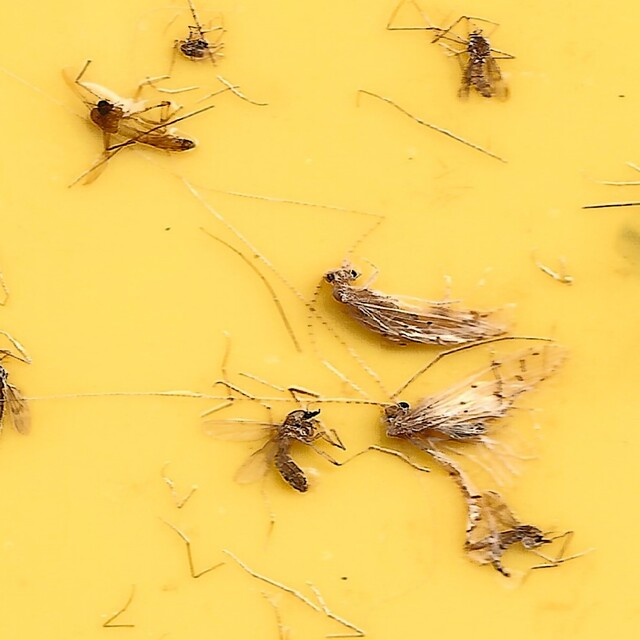Nematocera: (71, 59, 202, 190), (207, 403, 349, 495), (458, 489, 559, 581)
Plecoptera: (247, 200, 517, 362), (274, 333, 569, 477)
